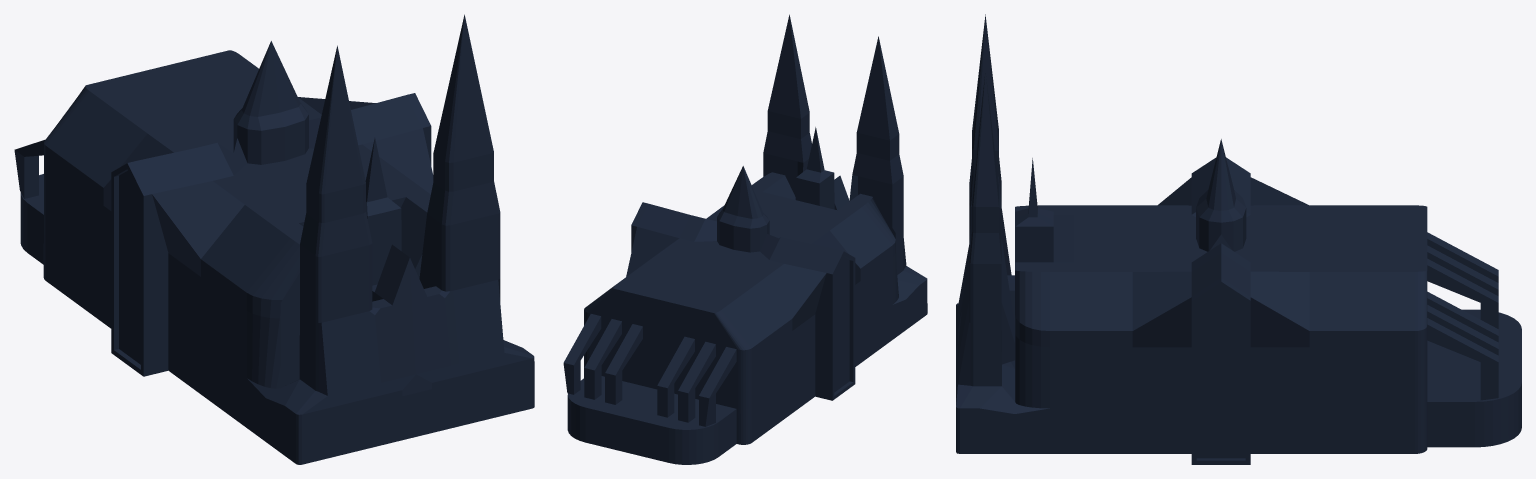
File: church_night.fbx
3 renders of one model, left to right at view 1: azimuth 30°, elevation 25°; view 2: azimuth 150°, elevation 25°; view 3: azimuth 270°, elevation 25°, orthographic. The views are drawn at different scales.
Visible parts, largest first — view 1: Cube; view 2: Cube; view 3: Cube.
Boxes of the visible parts, <box> form: Cube: <box>14,14,534,464</box>; Cube: <box>563,14,927,464</box>; Cube: <box>956,14,1521,464</box>.
Size of the model in its own units: 82.6 by 108 by 155.
